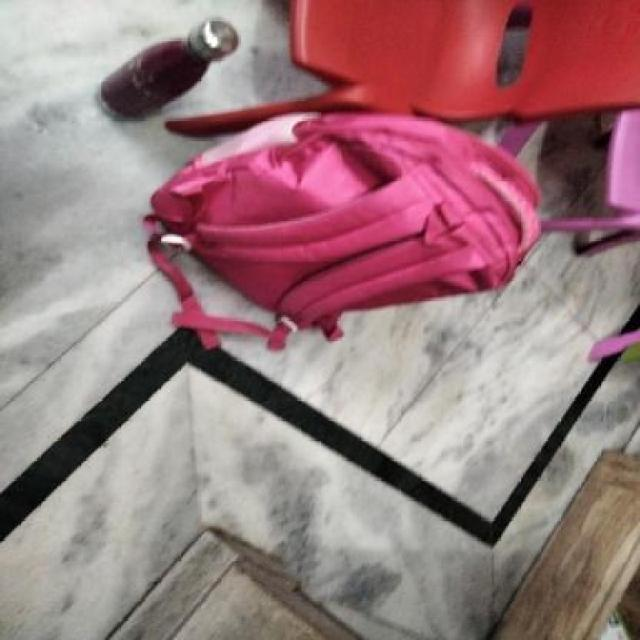backpack: (142, 107, 543, 356)
